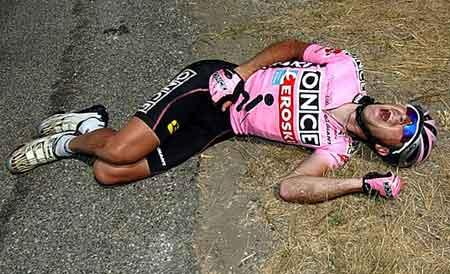down: (4, 37, 441, 208)
